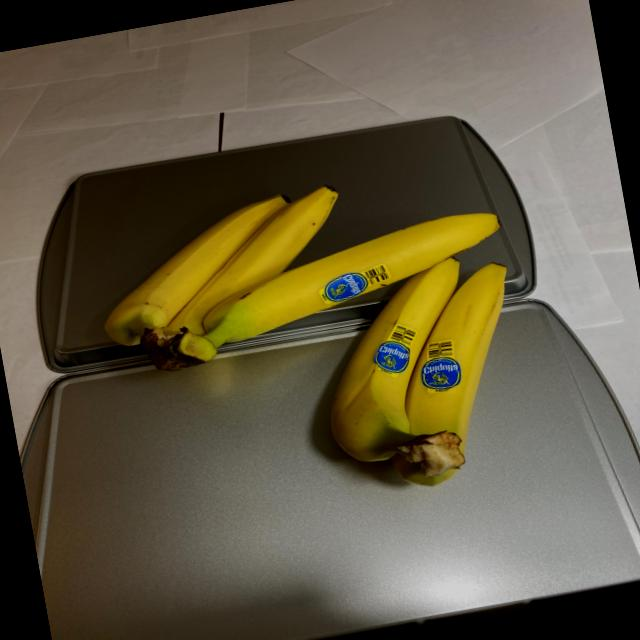banana: (83, 152, 547, 537)
